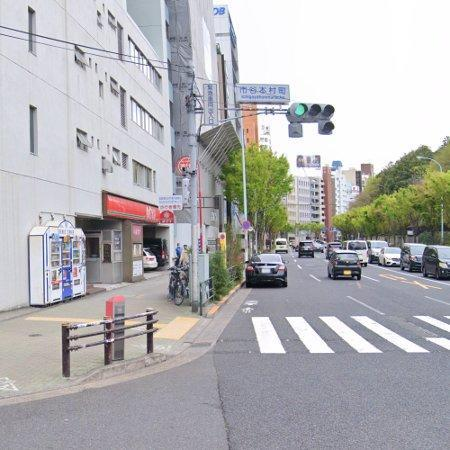crosswalks: (252, 316, 450, 354)
